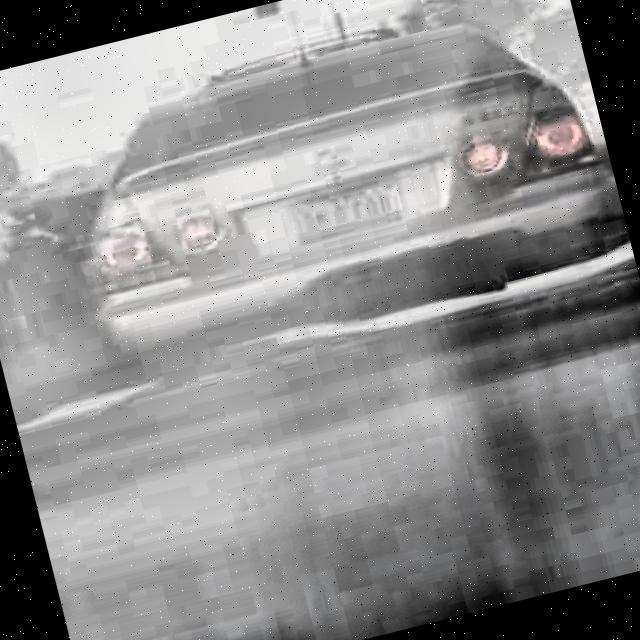license_plate: (279, 176, 412, 254)
